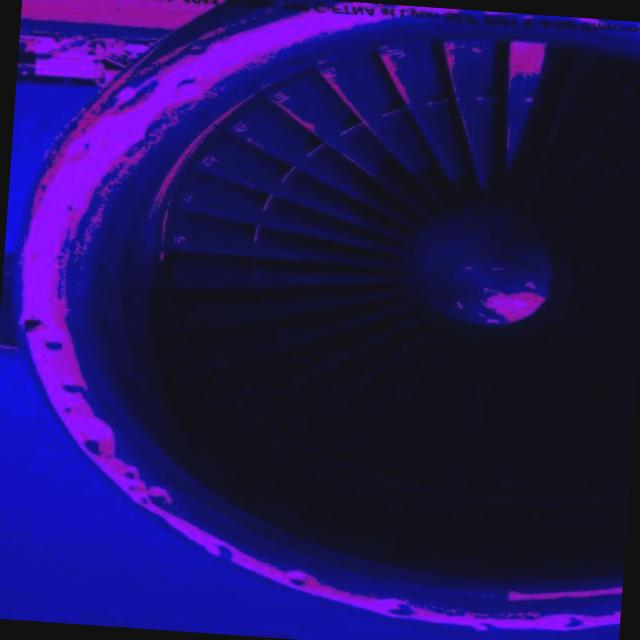dent: (104, 24, 223, 126), (58, 415, 118, 462)
